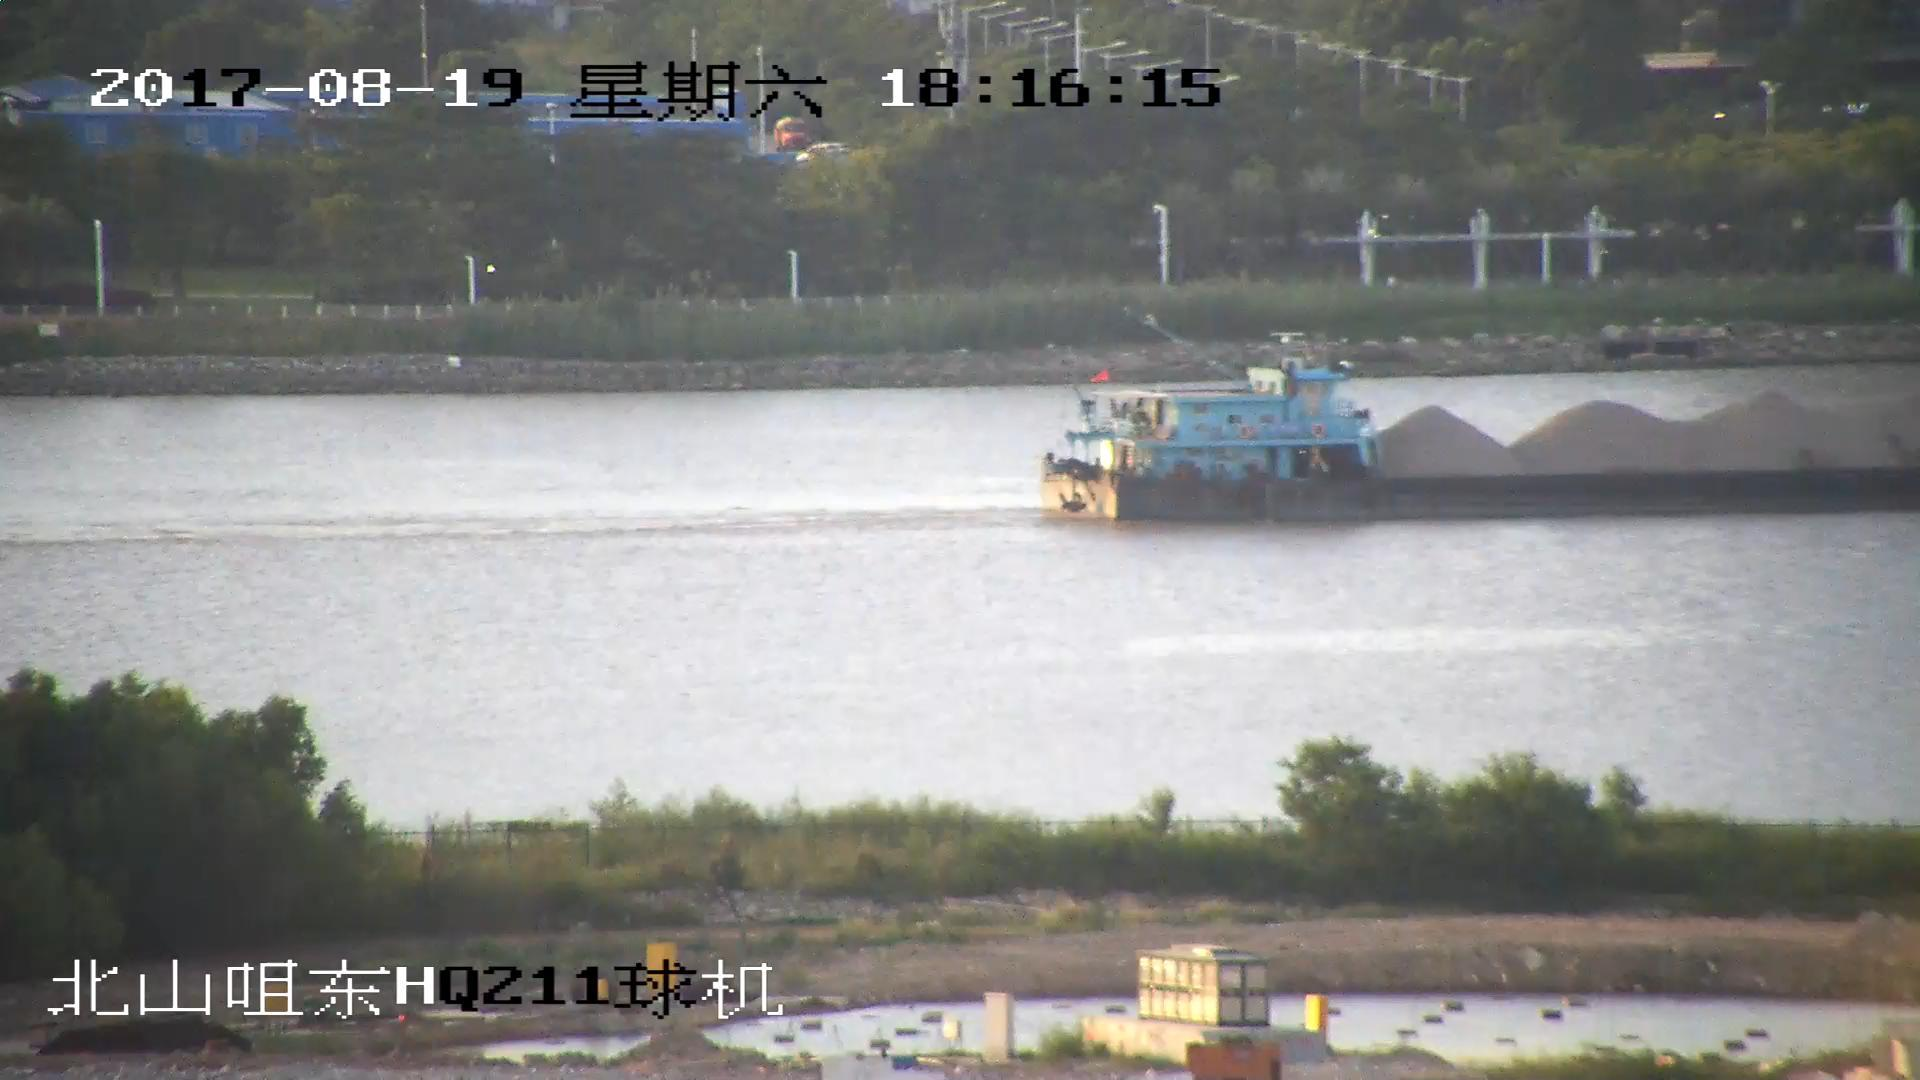Ship: (1036, 342, 1920, 531)
